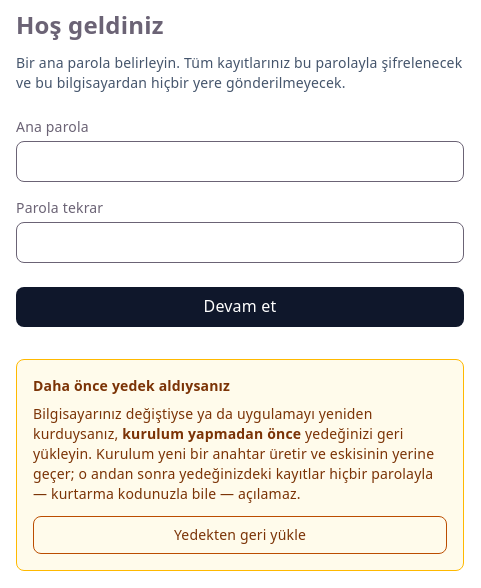
Test: KurulumSihirbazi › kurtarma kodu ekraninda yedegin iki dosyadan olustugunu soyler
The image size is (481, 588).
In the password field labelled "Ana parola": (240, 162) [16,141,464,182], type "gizliparola"
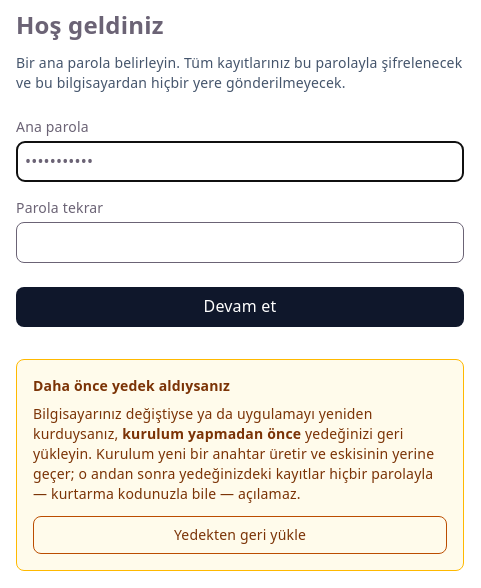
In the password field labelled "Parola tekrar": (240, 243) [16,222,464,263], type "gizliparola"
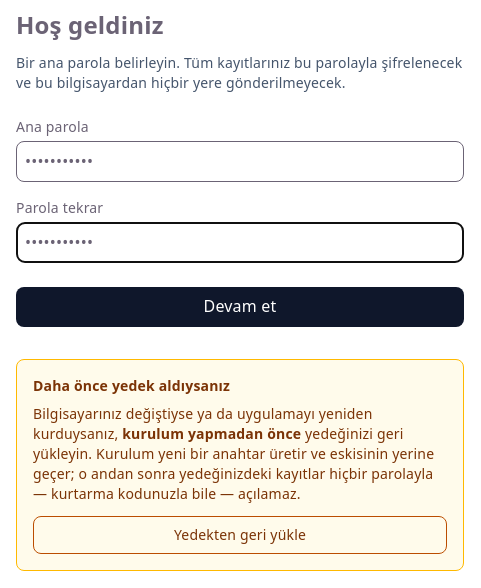
Click the button "Devam et": (240, 307) [16,287,464,327]
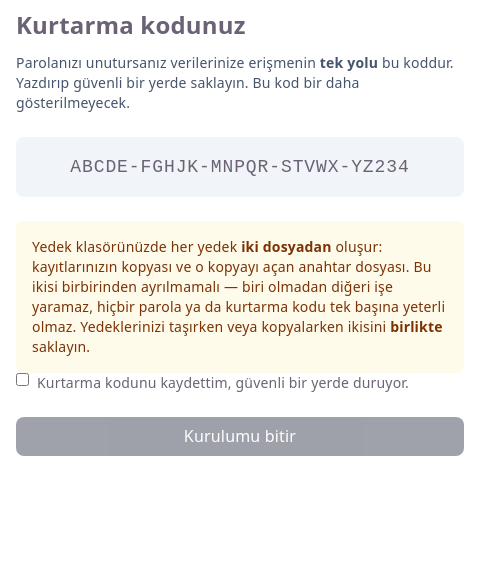
Expected: the text "ABCDE-FGHJK-MNPQR-STVWX-YZ234" is shown, [16,137,464,197]
Expected: the text "iki dosyadan" is shown, [241,237,332,256]
Expected: the text "birlikte" is shown, [390,317,443,336]
